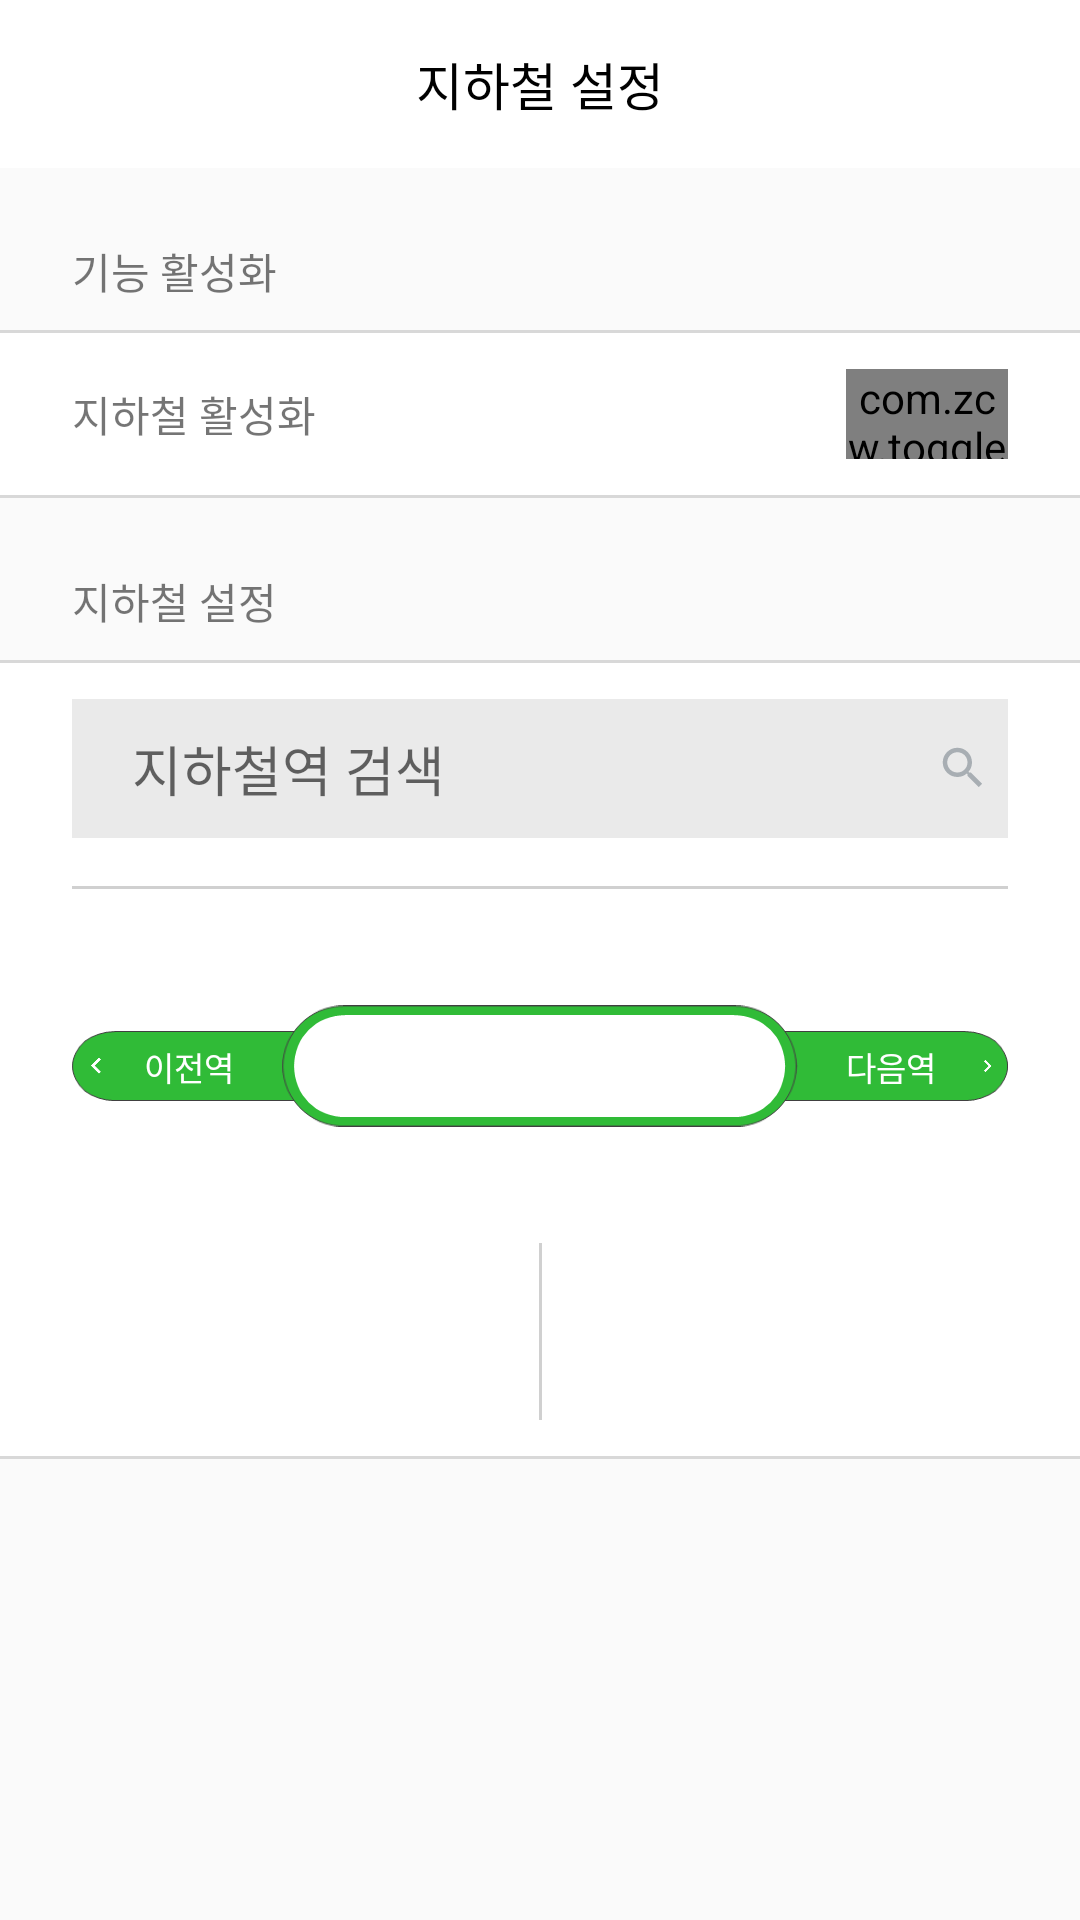

Icons on this 1080 × 1920 Android screen, each with the point to tap as point (x, y):
search: point (962, 767)
